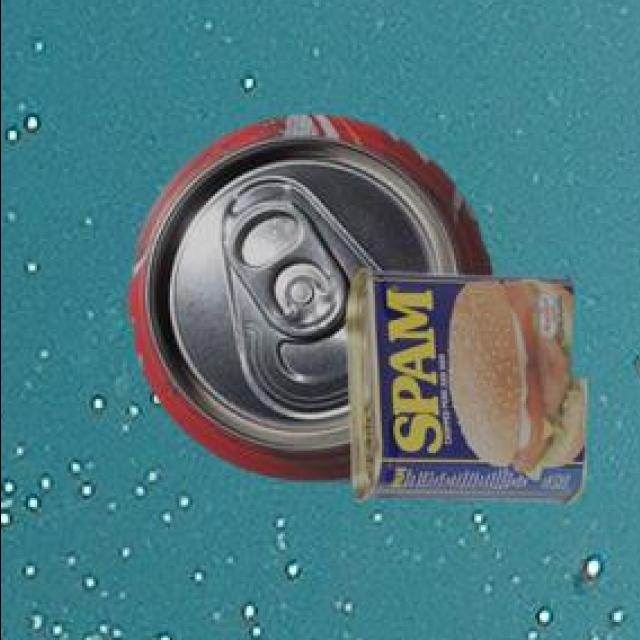logam: (132, 112, 495, 479), (348, 265, 589, 499)
